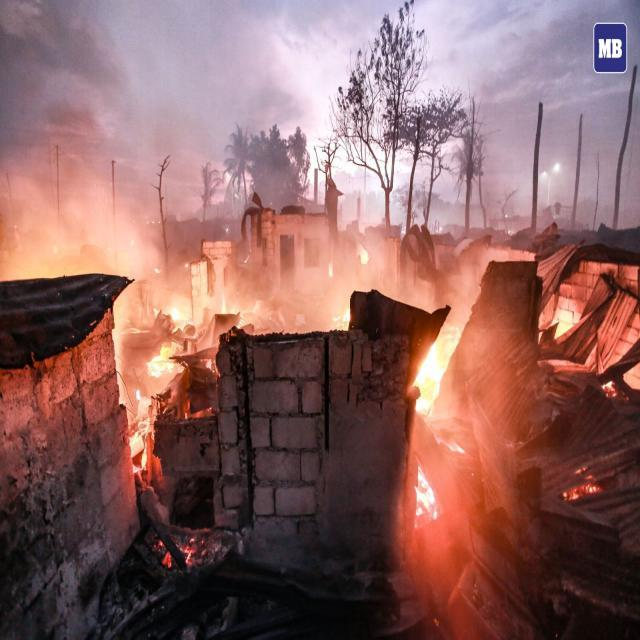Fire: (122, 382, 158, 463), (413, 335, 452, 403), (414, 468, 441, 535), (562, 467, 600, 504), (147, 352, 187, 382), (329, 306, 355, 334), (432, 441, 468, 454)
